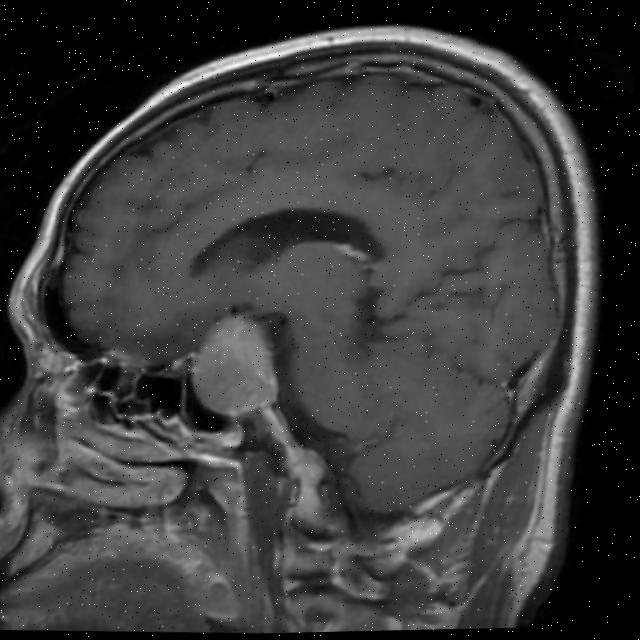Pituitary: (186, 311, 285, 418)
